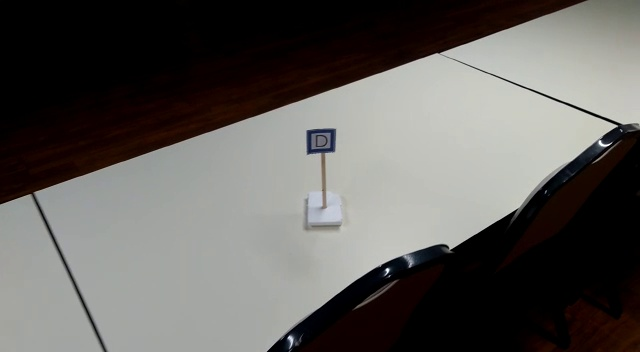durak: (307, 127, 337, 154)
